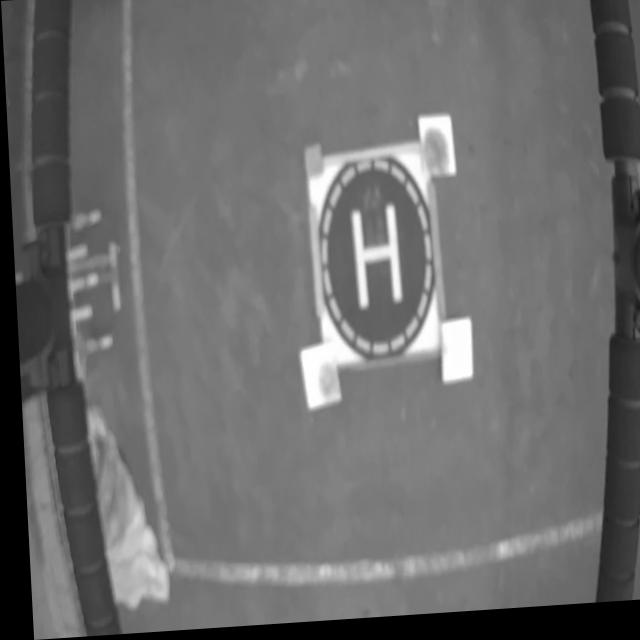Helipad: (345, 207, 400, 312)
